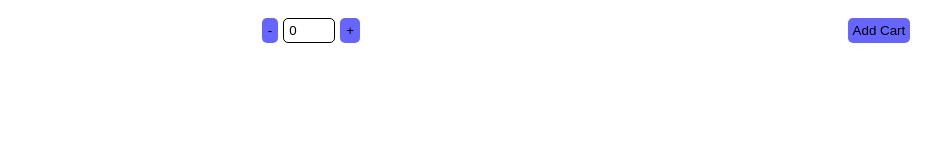
Test: Cart DashBoard › Invalid quantity
Step 1. Click the button "Add Cart" → (879, 30), box [848,18,910,43]
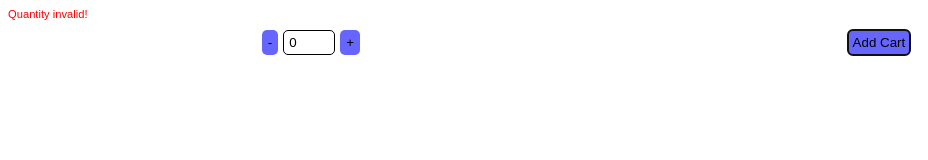
Expected: the text "Quantity invalid!" is shown, [8,8,88,20]
